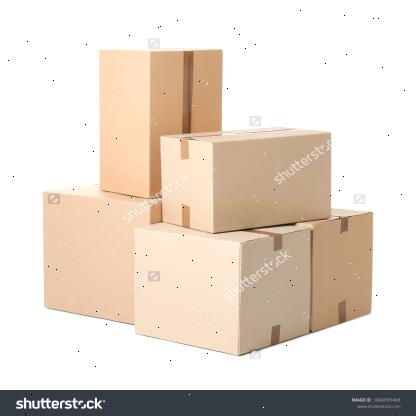box: (42, 191, 150, 325), (134, 226, 240, 358), (212, 132, 332, 233), (97, 48, 149, 198), (312, 210, 372, 336)
